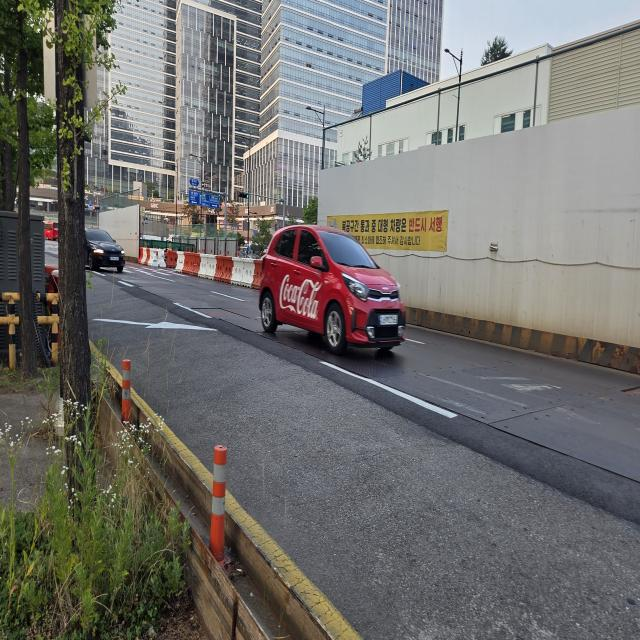car: (238, 188, 414, 394), (71, 224, 133, 280)
